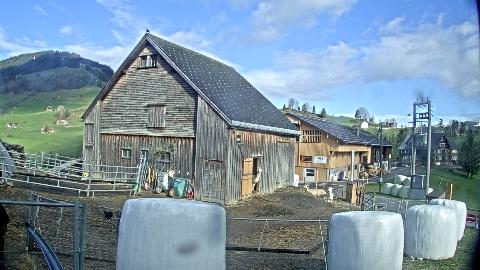sheep: (304, 184, 326, 198), (252, 168, 262, 192), (326, 187, 336, 203)
